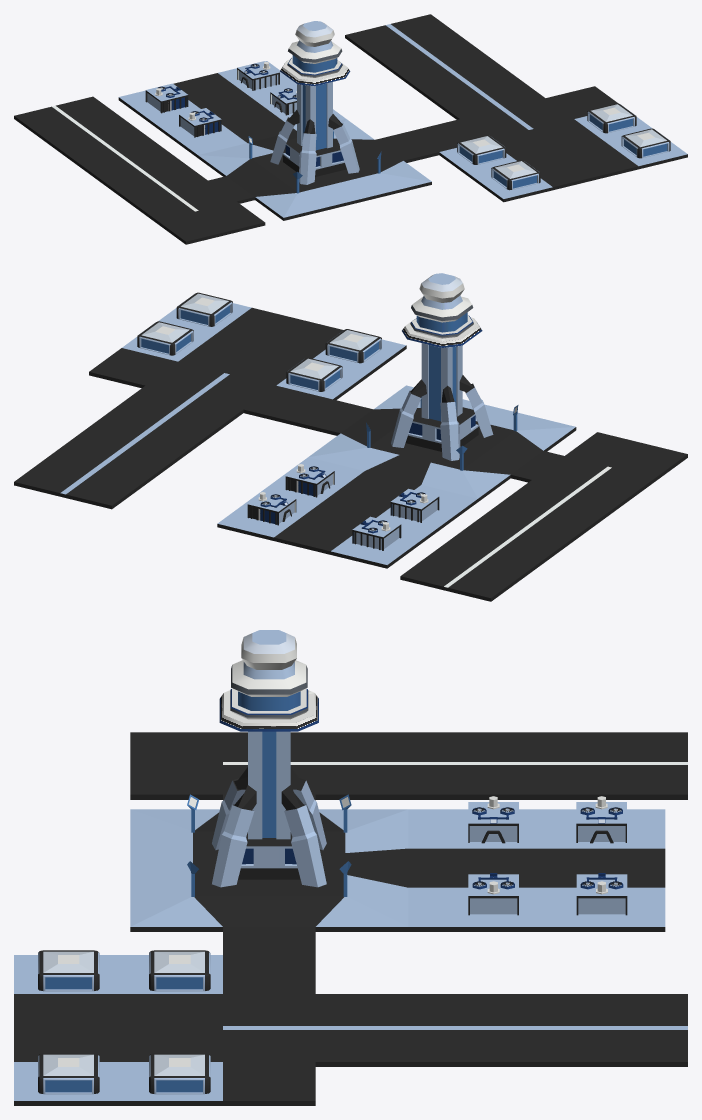
Rendered from KosmodromLevel3.fbx.
The picture shows the model from 3 angles, top to bottom: view 1: azimuth 30°, elevation 25°; view 2: azimuth 150°, elevation 25°; view 3: azimuth 270°, elevation 25°; orthographic projection. The views are drawn at different scales.
Visible parts, largest first — view 1: Cube.012, Cylinder.002, Cube.014, Cube.015, Cube.013, Cube.039, Cube.040, Cube.018, Cube.017, Cube.023, Cube.038, Cube.028 (+1 smaller); view 2: Cube.012, Cylinder.002, Cube.014, Cube.015, Cube.013, Cube.017, Cube.039, Cube.018, Cube.040, Cube.023, Cube.038, Cube.033 (+1 smaller); view 3: Cube.012, Cylinder.002, Cube.014, Cube.015, Cube.018, Cube.040, Cube.017, Cube.039, Cube.013, Cube.028, Cube.033, Cube.023 (+2 smaller).
Boxes of the visible parts, left/top/right/bottom form: Cube.012: left=14, top=14, right=687, bottom=244; Cylinder.002: left=280, top=21, right=350, bottom=86; Cube.014: left=270, top=110, right=359, bottom=184; Cube.015: left=297, top=82, right=332, bottom=151; Cube.013: left=283, top=138, right=346, bottom=176; Cube.039: left=491, top=160, right=540, bottom=190; Cube.040: left=621, top=128, right=670, bottom=158; Cube.018: left=587, top=103, right=636, bottom=133; Cube.017: left=457, top=135, right=506, bottom=164; Cube.023: left=145, top=83, right=188, bottom=113; Cube.038: left=179, top=108, right=221, bottom=137; Cube.028: left=237, top=61, right=279, bottom=90; Cube.012: left=14, top=303, right=687, bottom=601; Cylinder.002: left=402, top=273, right=482, bottom=347; Cube.014: left=391, top=375, right=493, bottom=460; Cube.015: left=421, top=343, right=462, bottom=422; Cube.013: left=405, top=407, right=478, bottom=451; Cube.017: left=286, top=357, right=342, bottom=391; Cube.039: left=325, top=329, right=381, bottom=363; Cube.018: left=137, top=321, right=193, bottom=355; Cube.040: left=176, top=292, right=232, bottom=326; Cube.023: left=352, top=516, right=401, bottom=550; Cube.038: left=390, top=488, right=439, bottom=522; Cube.033: left=285, top=463, right=334, bottom=497; Cube.012: left=14, top=732, right=687, bottom=1105; Cylinder.002: left=219, top=630, right=318, bottom=731; Cube.014: left=212, top=767, right=326, bottom=887; Cube.015: left=248, top=731, right=290, bottom=839; Cube.018: left=149, top=1053, right=210, bottom=1094; Cube.040: left=38, top=1053, right=99, bottom=1094; Cube.017: left=149, top=950, right=210, bottom=991; Cube.039: left=38, top=950, right=99, bottom=991; Cube.013: left=238, top=832, right=300, bottom=879; Cube.028: left=576, top=874, right=627, bottom=915; Cube.033: left=468, top=874, right=518, bottom=915; Cube.023: left=576, top=802, right=626, bottom=842.
Size of the model in its own units: 40.78 by 31.5 by 12.17.
Materials: 1 (1 with a texture image).
